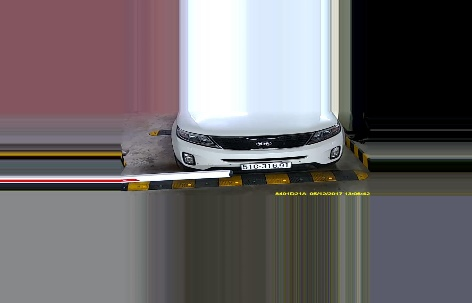plate: (242, 158, 295, 170)
